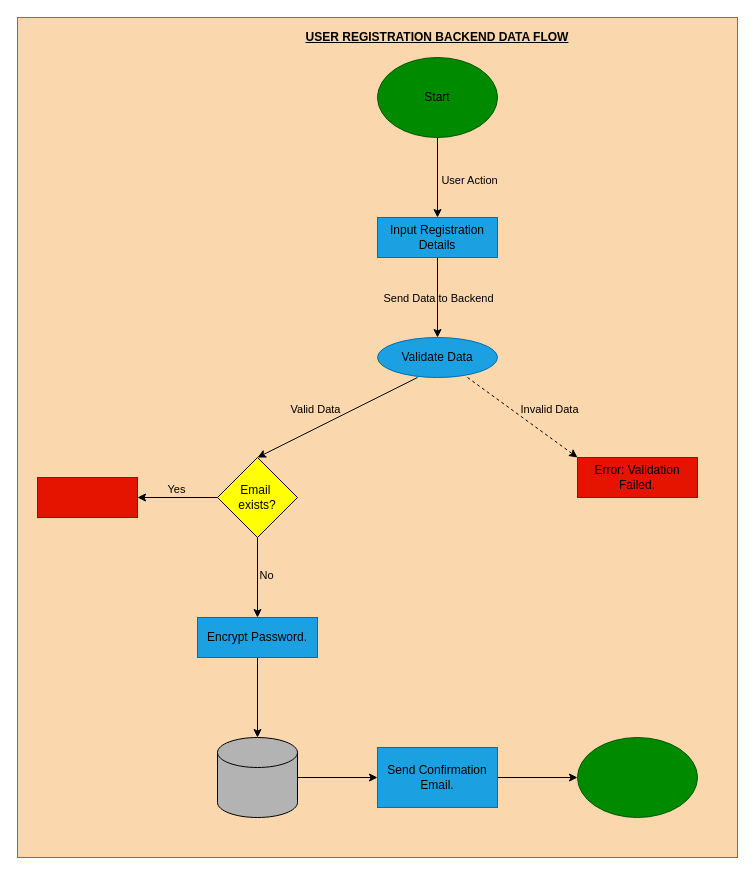
This 755x875 diagram has some shape labels left out. The shapes that lost their labels are listed below. From the top down, each one's centre as x and y in pixels, then its label:
At point 87,497: "Error: User already exists.".
At point 257,777: "Save to Database".
At point 637,777: "End".
